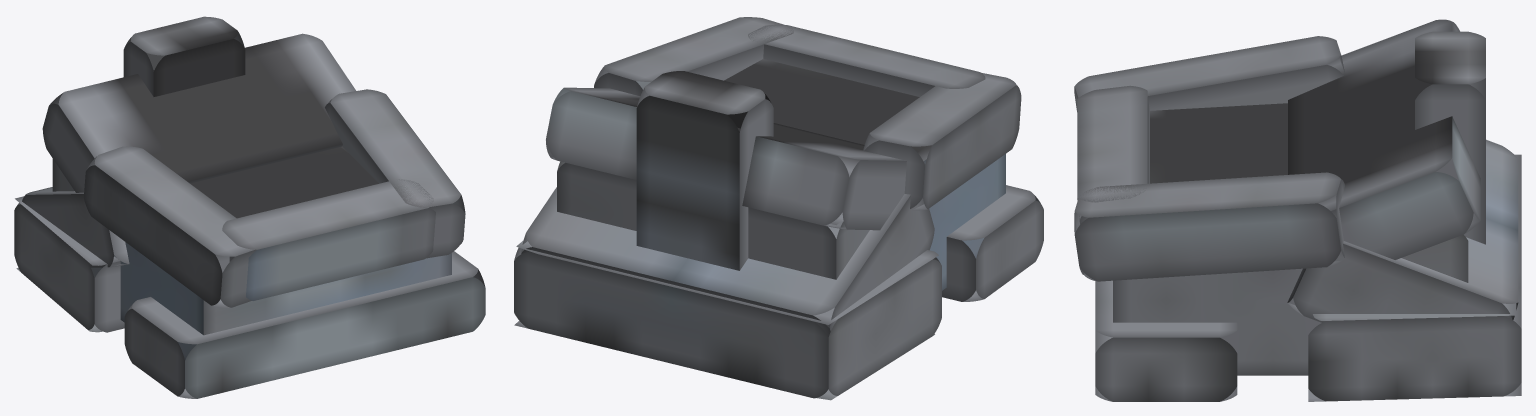
Rendered from bydlovka_b_r.obj.
3 renders of one model, left to right at view 1: azimuth 30°, elevation 25°; view 2: azimuth 150°, elevation 25°; view 3: azimuth 270°, elevation 25°, orthographic. The views are drawn at different scales.
Parts seen in each view (by area): view 1: cube; view 2: cube; view 3: cube.
Part boxes in pixels (bbox=[...]): cube: bbox=[14, 16, 485, 398]; cube: bbox=[514, 17, 1043, 400]; cube: bbox=[1074, 19, 1521, 401].
Bounding box in the file's own units: 0.3594 × 0.25 × 0.3952.
